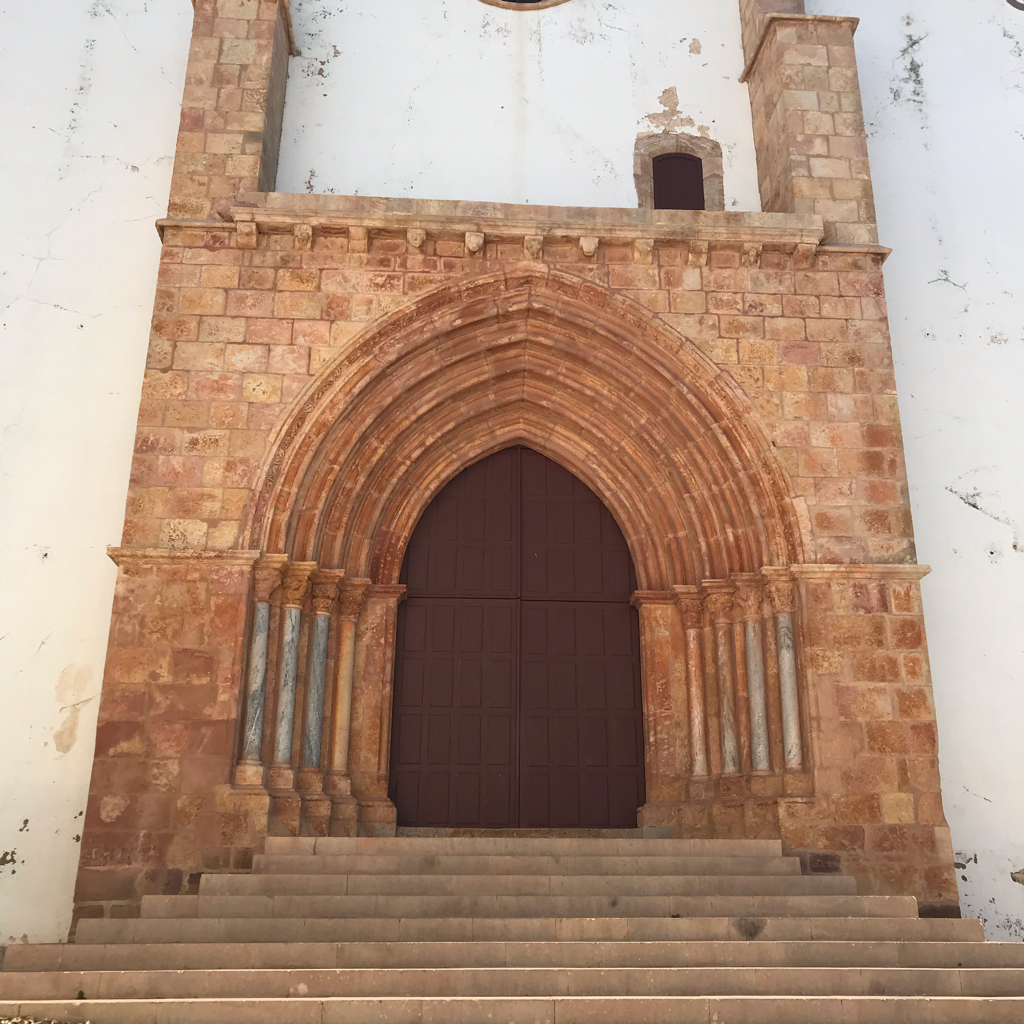arco-apuntado: (234, 261, 771, 571)
